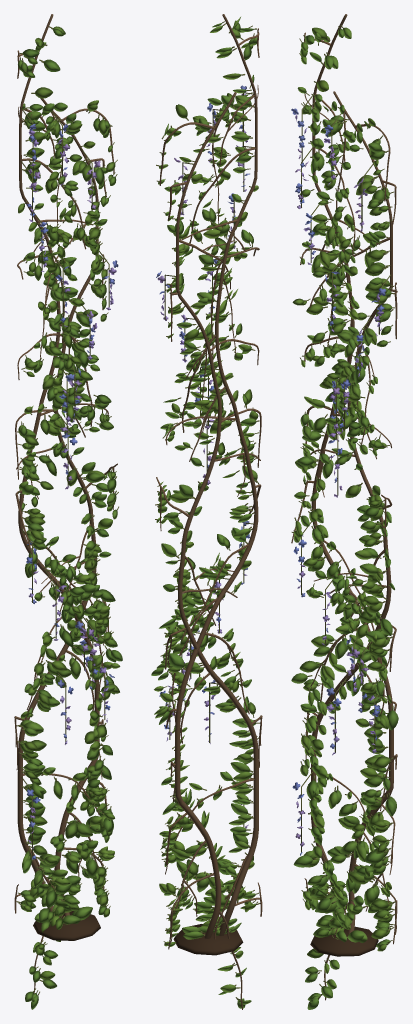
File: climber_wisteria_narrow.glb
3 views of the same model, side by side, from view 1: azimuth 30°, elevation 25°; view 2: azimuth 210°, elevation 25°; view 3: azimuth 330°, elevation 25° (orthographic). The views are drawn at different scales.
Parts seen in each view (by area): view 1: Sammel Pflanze, Sammel Holz, Sammel Putz; view 2: Sammel Pflanze, Sammel Holz, Sammel Putz; view 3: Sammel Pflanze, Sammel Holz, Sammel Putz.
Boxes of the visible parts, x1=… form: Sammel Pflanze: x1=18, y1=26, x2=122, y2=1009; Sammel Holz: x1=14, y1=14, x2=117, y2=993; Sammel Putz: x1=16, y1=26, x2=118, y2=995; Sammel Pflanze: x1=151, y1=17, x2=258, y2=1008; Sammel Holz: x1=156, y1=14, x2=262, y2=1009; Sammel Putz: x1=155, y1=21, x2=260, y2=1001; Sammel Pflanze: x1=291, y1=27, x2=398, y2=1009; Sammel Holz: x1=291, y1=14, x2=397, y2=1000; Sammel Putz: x1=291, y1=24, x2=395, y2=999.
Size of the model in its own units: 0.5601 by 5.39 by 0.3242.
